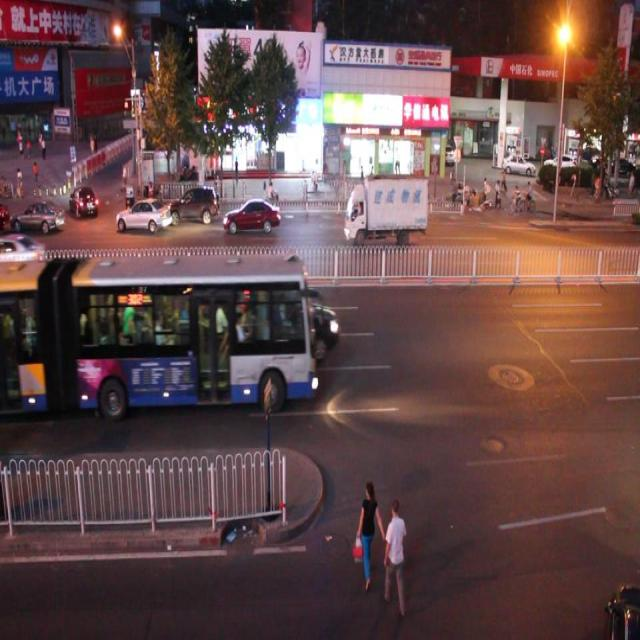bus: (343, 180, 427, 241)
car: (273, 299, 338, 355), (1, 232, 50, 279), (166, 184, 219, 226), (11, 197, 66, 237), (223, 197, 280, 233), (117, 197, 171, 233), (70, 184, 98, 219)
van: (1, 255, 327, 402)
